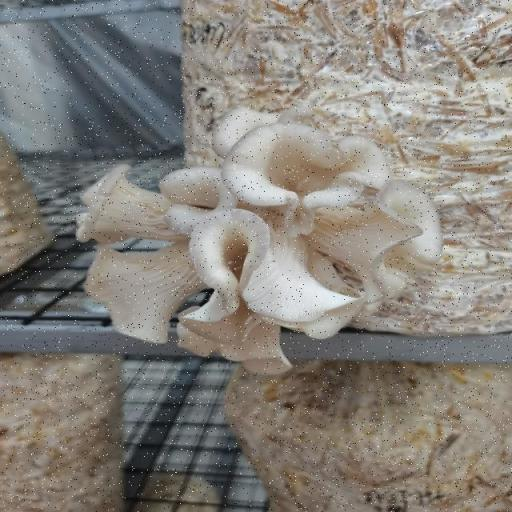White Oyster Mushroom: (57, 97, 466, 391)
